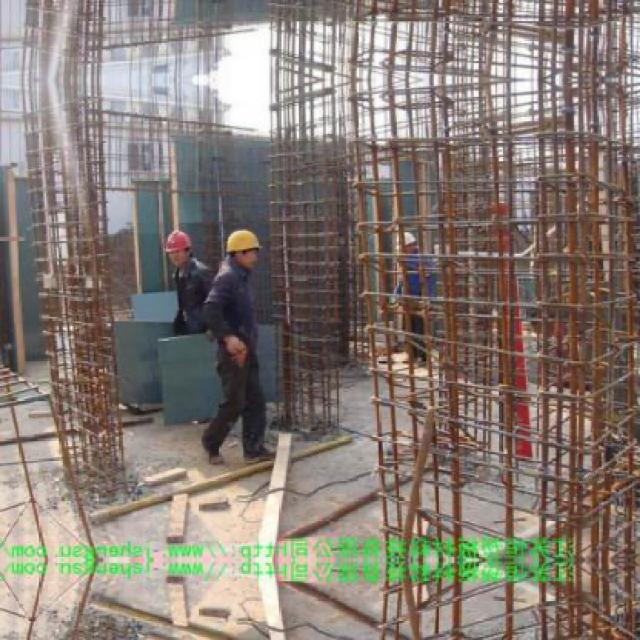helmet: (228, 228, 264, 270), (166, 228, 191, 268), (392, 229, 418, 262)
